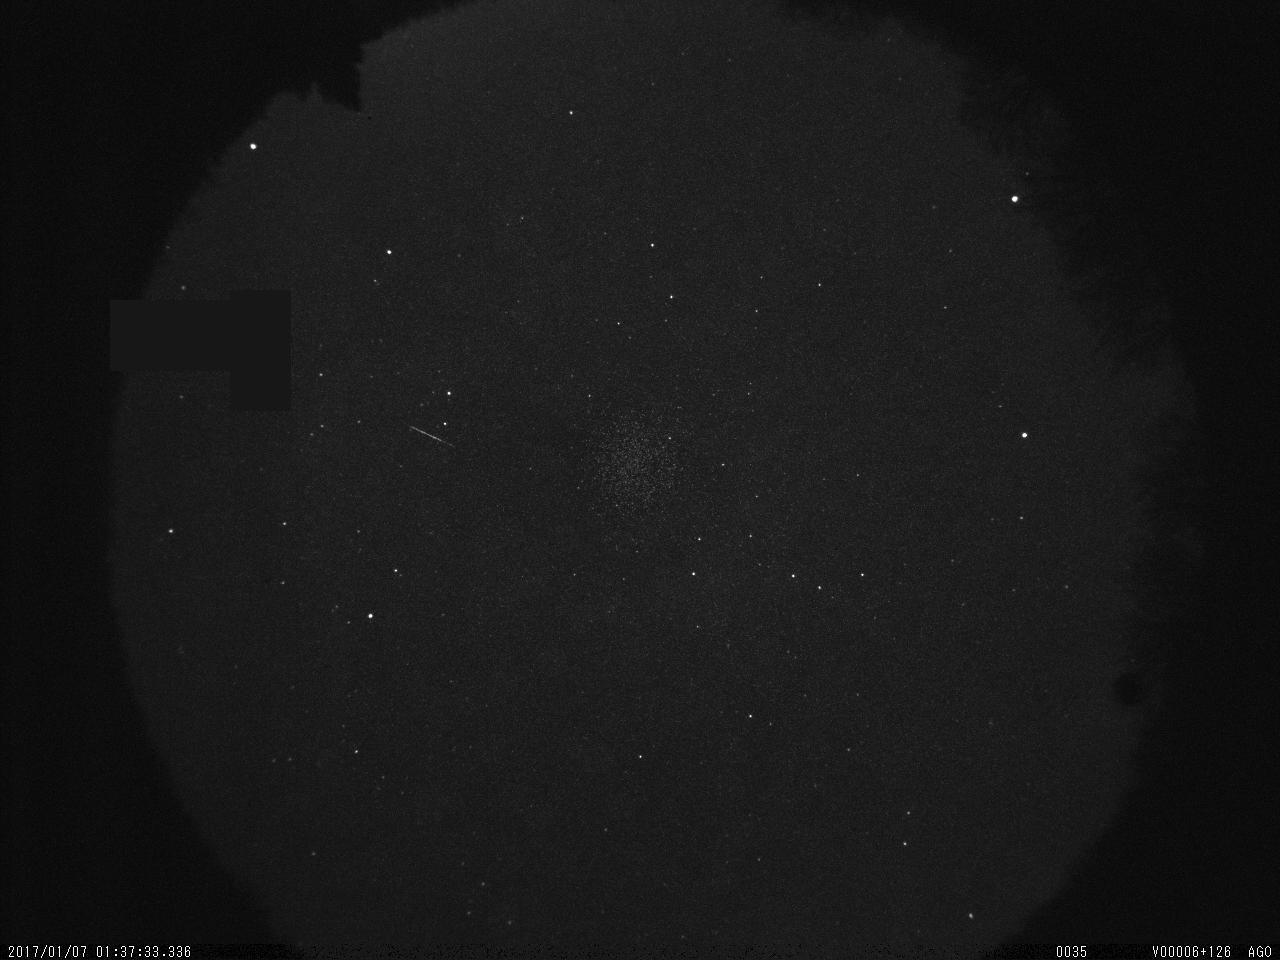meteor: (401, 415, 468, 454)
